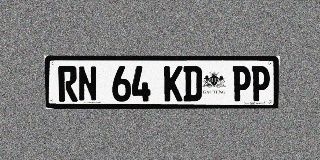4: (132, 66, 150, 101)
6: (112, 66, 131, 101)
D: (183, 66, 202, 101)
K: (164, 66, 183, 101)
N: (78, 66, 97, 102)
P: (232, 66, 251, 101), (251, 66, 270, 101)
R: (58, 66, 78, 102)
